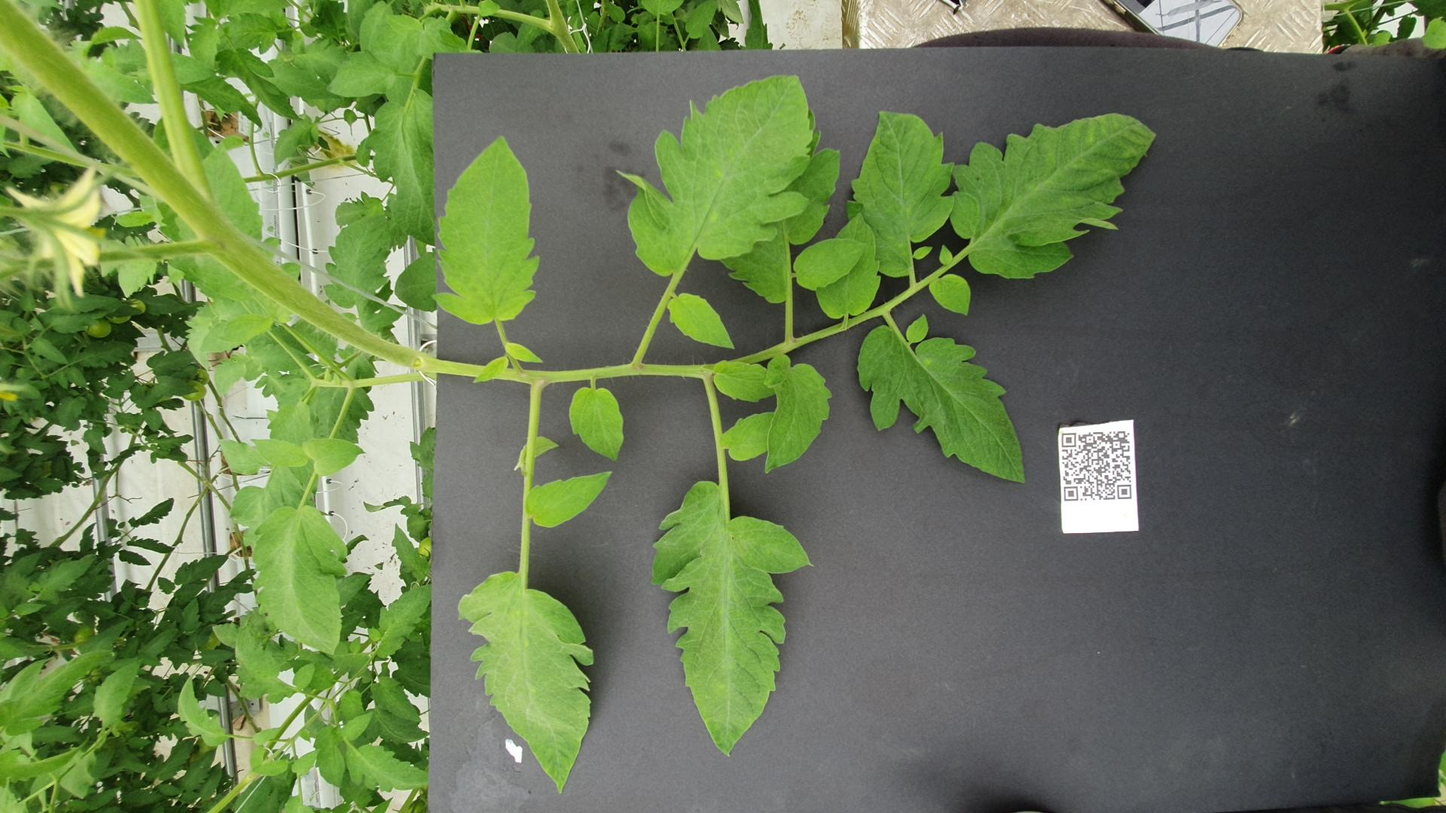Healthy: (102, 365, 593, 459), (947, 344, 1330, 457), (944, 533, 1247, 652), (35, 256, 440, 334), (582, 481, 868, 580), (852, 243, 1209, 302), (951, 474, 1253, 539), (277, 141, 552, 197), (1010, 204, 1290, 244), (598, 427, 817, 469), (893, 181, 1070, 221), (1229, 120, 1360, 171), (506, 295, 612, 346), (274, 206, 411, 243), (625, 319, 760, 351), (32, 195, 125, 241), (114, 99, 250, 129), (931, 445, 1027, 487), (825, 374, 928, 412), (1269, 182, 1358, 225), (152, 51, 271, 80), (730, 400, 809, 436), (594, 170, 669, 207), (625, 406, 715, 436), (161, 208, 243, 237), (414, 220, 516, 243), (882, 521, 961, 547), (601, 121, 667, 150), (609, 140, 668, 172), (833, 122, 890, 154), (1375, 384, 1446, 405), (42, 177, 124, 195), (126, 189, 183, 210)
